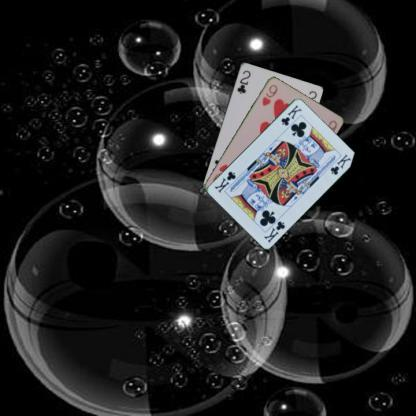2c: (234, 68, 252, 94)
9h: (260, 81, 278, 107)
Kc: (261, 218, 286, 244), (278, 102, 303, 127)
